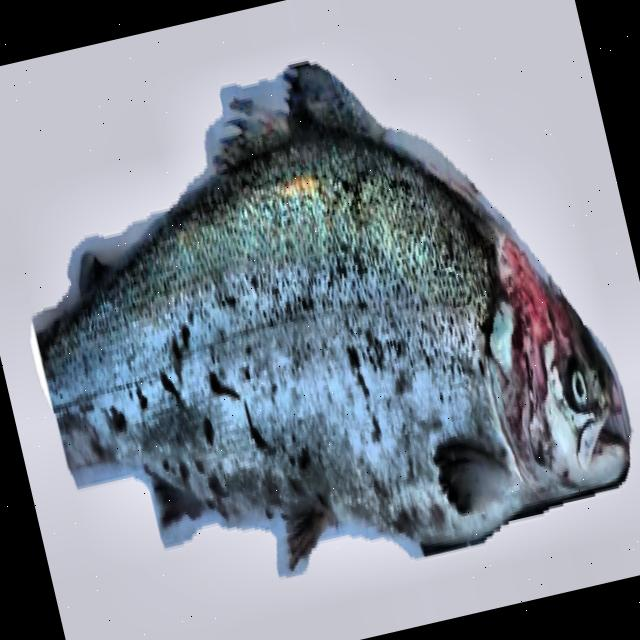mild_red: (37, 113, 576, 564)
wound: (499, 237, 575, 405)
